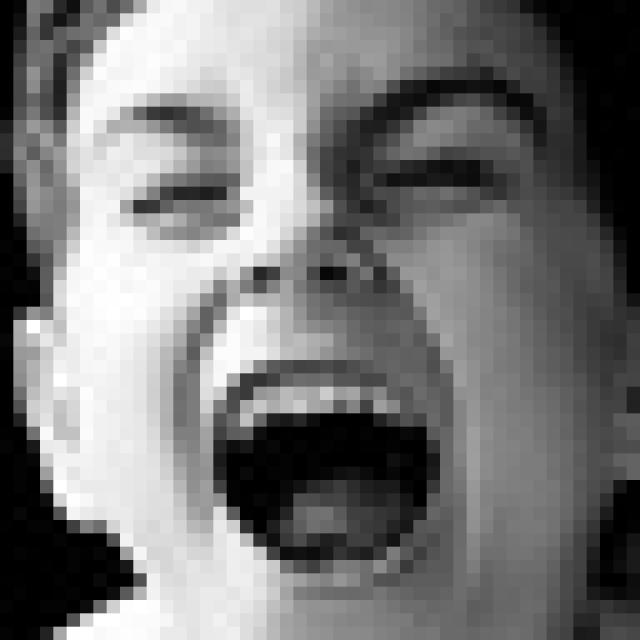angry: (84, 68, 558, 591)
